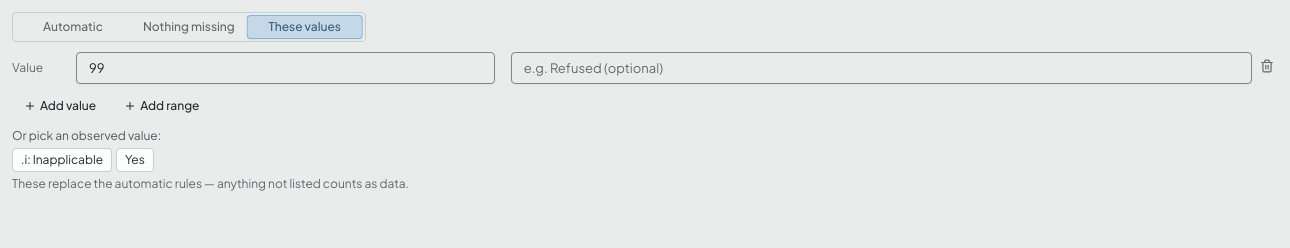
Test case: MissingValueRows — the observed-value picker (#823a) › appends when every row is already spoken for
Click the button with test id "mv-pick".
click(62, 160)  # box [12,148,112,172]
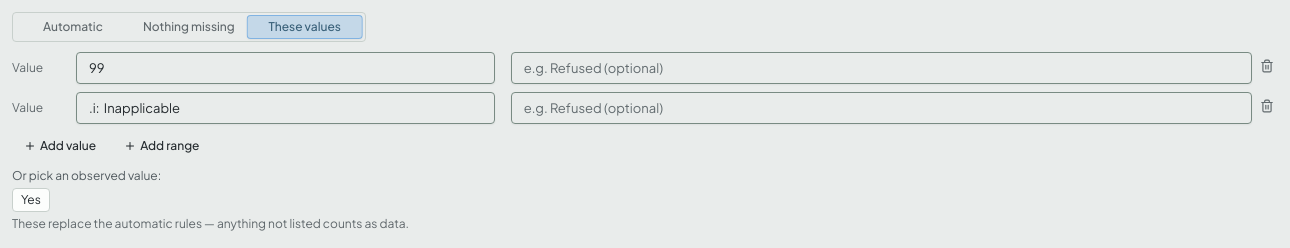
Expected: the field named "Missing value code for row 2" holds ".i:  Inapplicable", [76,92,495,124]
